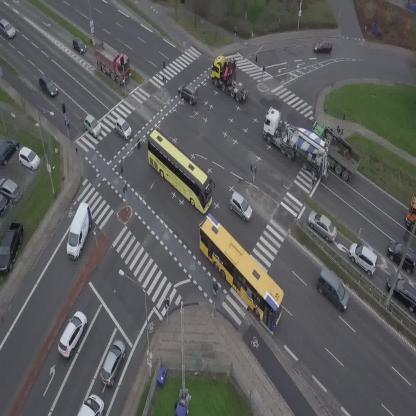bicycle: (209, 280, 221, 303)
bus: (183, 212, 298, 331), (134, 127, 226, 216)
car: (309, 266, 357, 313), (53, 308, 91, 359), (97, 337, 130, 388), (343, 238, 385, 278), (303, 207, 343, 244), (223, 190, 258, 223), (174, 79, 203, 106), (35, 72, 60, 99), (79, 114, 105, 139), (111, 116, 136, 141), (68, 34, 89, 57), (0, 17, 18, 41), (313, 39, 333, 54)
lorry: (251, 105, 345, 183), (303, 116, 367, 184), (203, 50, 261, 105), (85, 36, 139, 87), (60, 201, 98, 260), (78, 394, 104, 416)
